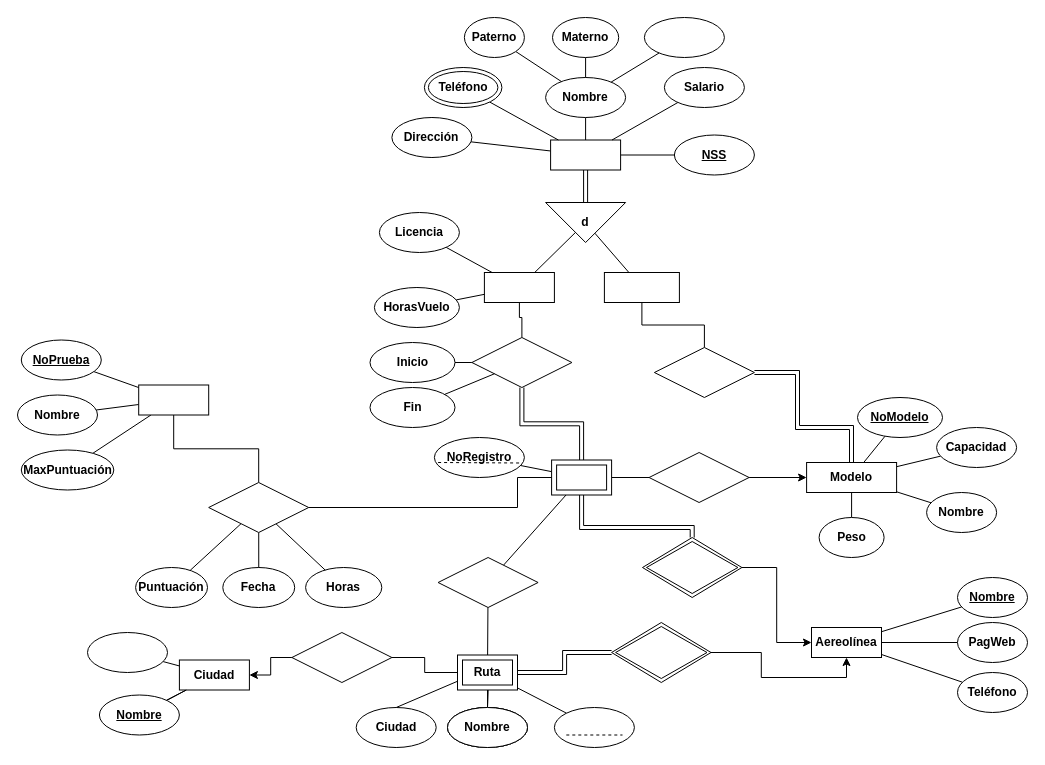
This 1045x765 diagram has some shape labels left out. Here are the shapes that lost their labels. From the top down, the box of each, then its label:
(643, 16, 724, 58): Nombres
(550, 139, 621, 170): Trabajador
(483, 272, 554, 302): Piloto
(603, 272, 679, 302): Técnico
(471, 336, 572, 388): Pilotar
(653, 346, 754, 398): Especializar
(138, 384, 209, 415): Prueba
(551, 459, 612, 495): Avión
(648, 452, 749, 502): Tener
(208, 482, 309, 532): Ejecutar
(437, 556, 538, 608): Asignar
(642, 536, 742, 598): Poseer
(86, 632, 168, 672): Estado
(291, 632, 392, 682): Operar
(611, 622, 711, 682): Pertenecer
(553, 706, 634, 748): NoRuta
